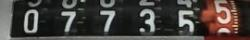digits: (94, 6, 115, 36), (138, 8, 157, 38), (177, 9, 195, 38), (60, 9, 77, 39), (212, 0, 231, 23), (23, 8, 39, 32)
